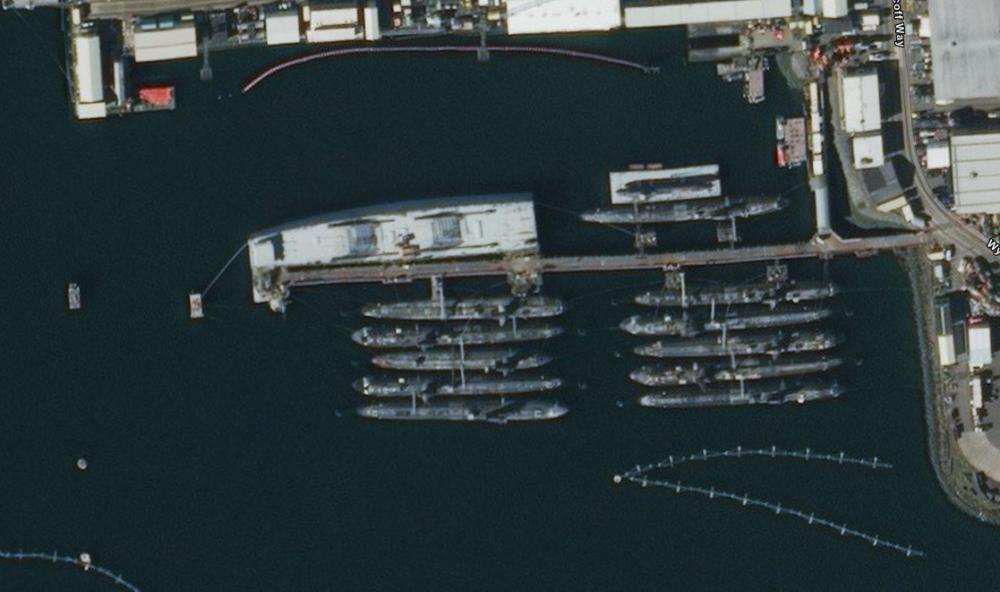submarine: (618, 380, 859, 440), (565, 186, 804, 235), (353, 287, 574, 330), (347, 399, 577, 438), (625, 271, 848, 309), (620, 355, 865, 386), (340, 319, 577, 350), (340, 372, 583, 401), (613, 307, 844, 336), (608, 338, 857, 361), (340, 352, 577, 371)
